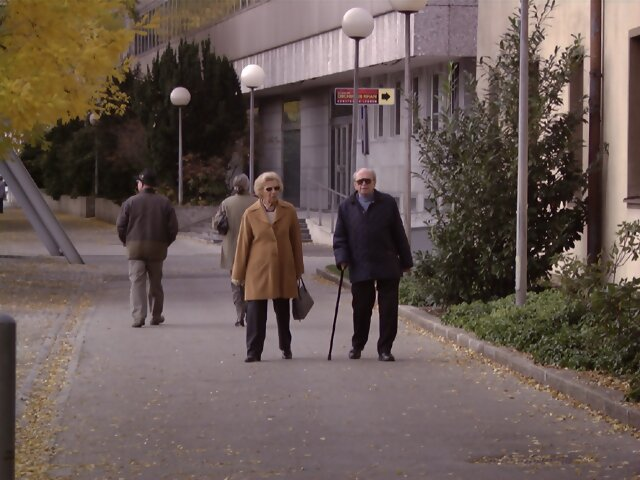person: (332, 163, 413, 363), (228, 170, 304, 361), (116, 167, 179, 328), (214, 169, 261, 326)
